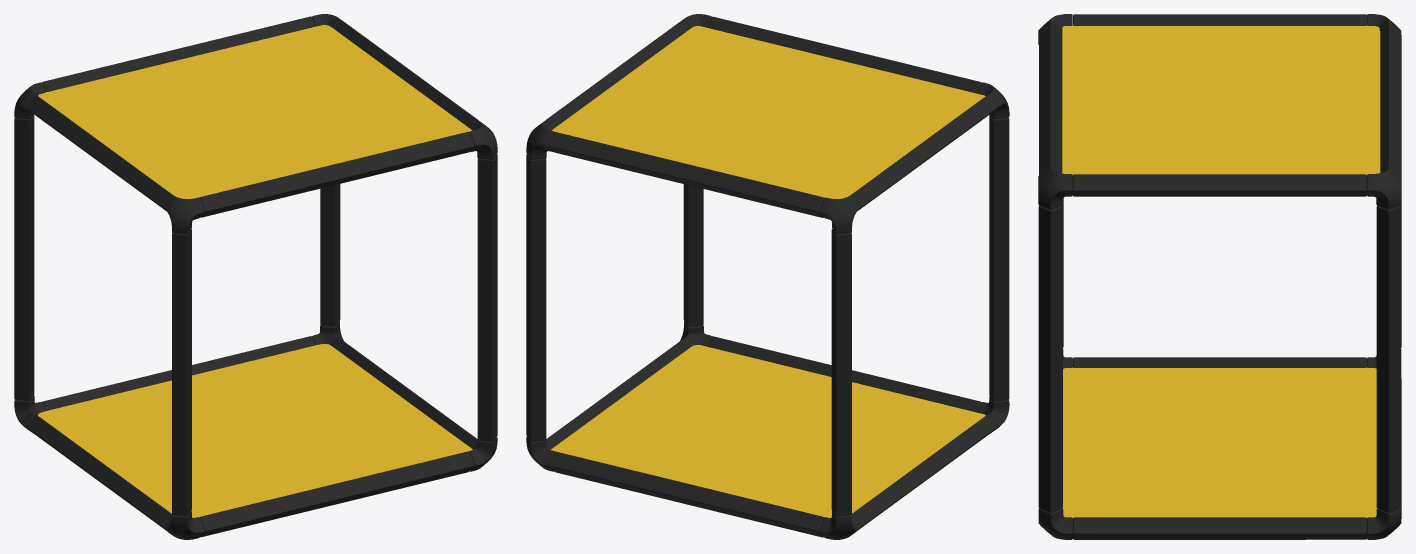
3 renders of one model, left to right at view 1: azimuth 30°, elevation 25°; view 2: azimuth 150°, elevation 25°; view 3: azimuth 270°, elevation 25°, orthographic. The views are drawn at different scales.
Visible parts, largest first — view 1: 374x329x374; view 2: 374x329x374; view 3: 374x329x374.
Boxes of the visible parts, x1,y1,x2,y2 form: 374x329x374: [14, 14, 497, 539]; 374x329x374: [526, 14, 1009, 539]; 374x329x374: [1038, 14, 1401, 539].
Size of the model in its own units: 0.4517 by 0.4517 by 0.4063.
